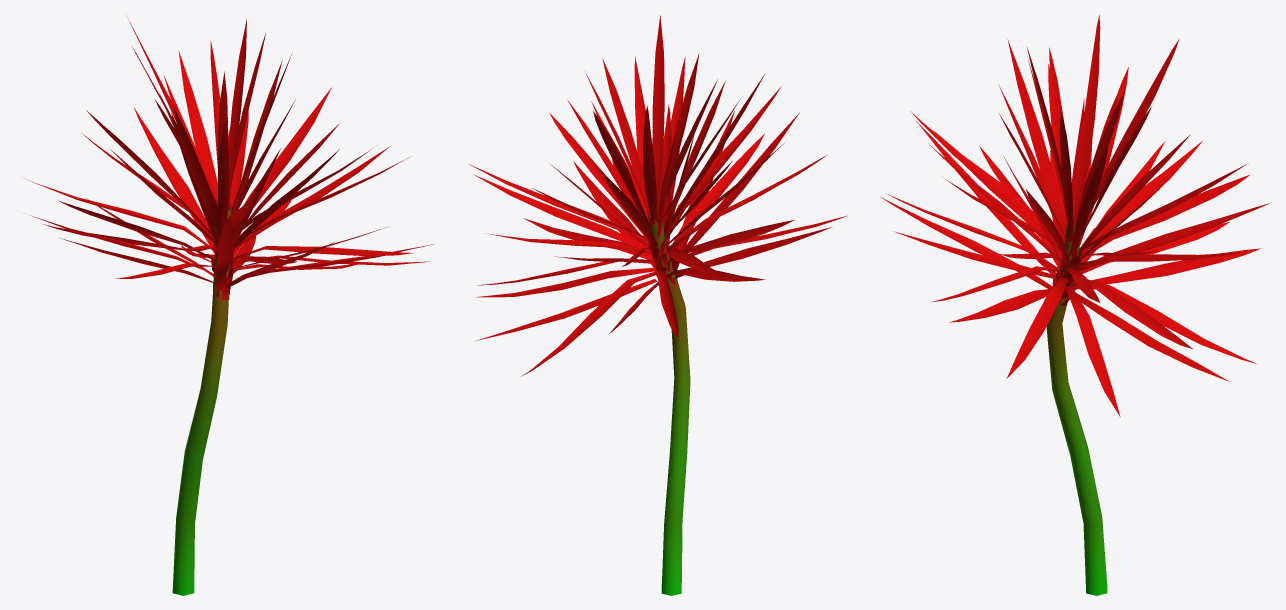
Rendered from Var12_LOD4.fbx.
The picture shows the model from 3 angles, left to right: view 1: azimuth 30°, elevation 25°; view 2: azimuth 150°, elevation 25°; view 3: azimuth 270°, elevation 25°; orthographic projection. The views are drawn at different scales.
Parts seen in each view (by area): view 1: _49ua_Var12_LOD4; view 2: _49ua_Var12_LOD4; view 3: _49ua_Var12_LOD4.
Part boxes in pixels (left/top/right/bottom): _49ua_Var12_LOD4: left=24, top=19, right=432, bottom=595; _49ua_Var12_LOD4: left=468, top=15, right=847, bottom=595; _49ua_Var12_LOD4: left=880, top=15, right=1269, bottom=595.
Bounding box in the file's own units: 73.89 × 113 × 70.86.
